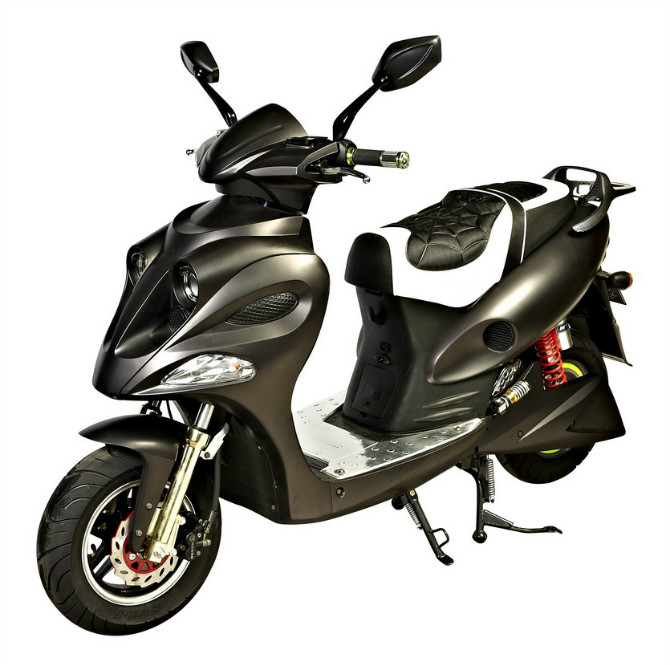电动车: (27, 29, 647, 651)
